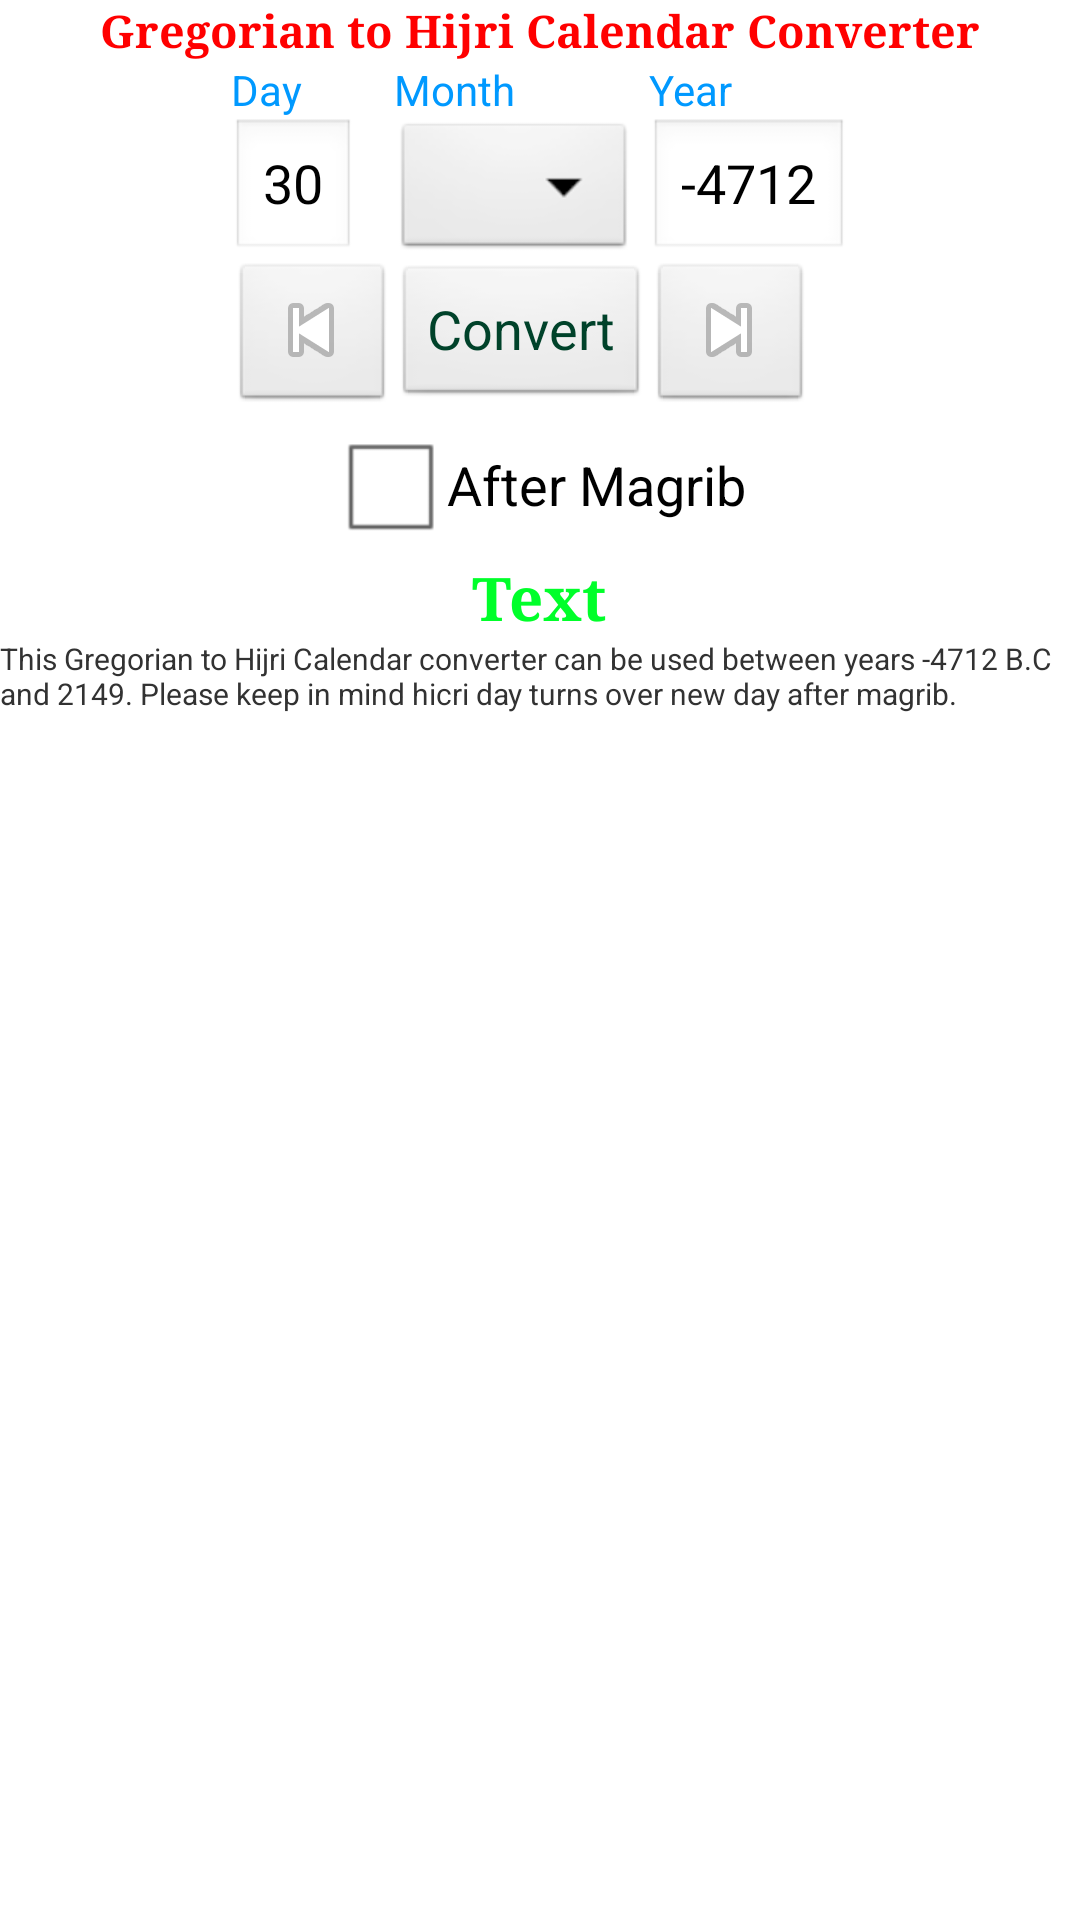

Icons on this 1080px×1920px Android screen, each with its box as (x1, y1, x2, y2):
next: (657, 264, 804, 401)
previous: (239, 264, 386, 401)
